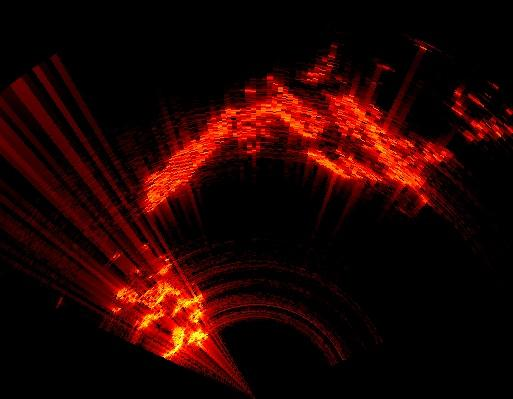shipwreck: (142, 78, 328, 212), (324, 94, 448, 188), (118, 282, 202, 328), (308, 150, 370, 176)
